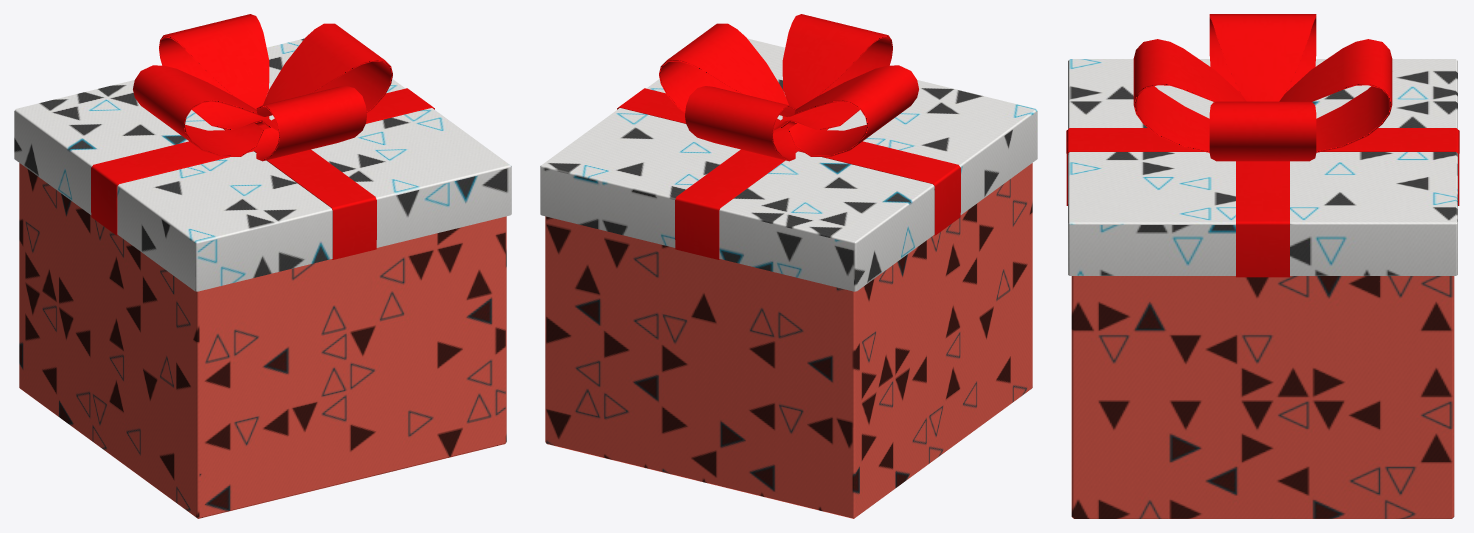
3 renders of one model, left to right at view 1: azimuth 30°, elevation 25°; view 2: azimuth 150°, elevation 25°; view 3: azimuth 270°, elevation 25°, orthographic. The views are drawn at different scales.
Parts seen in each view (by area): view 1: SK_GiftBox (×3); view 2: SK_GiftBox (×3); view 3: SK_GiftBox (×3).
Part boxes in pixels (bbox=[...]): SK_GiftBox (×3): bbox=[14, 14, 511, 518]; SK_GiftBox (×3): bbox=[540, 14, 1037, 518]; SK_GiftBox (×3): bbox=[1066, 14, 1459, 518].
Bounding box in the file's own units: 1.88 × 2 × 1.88.
3 materials, 3 textured.
